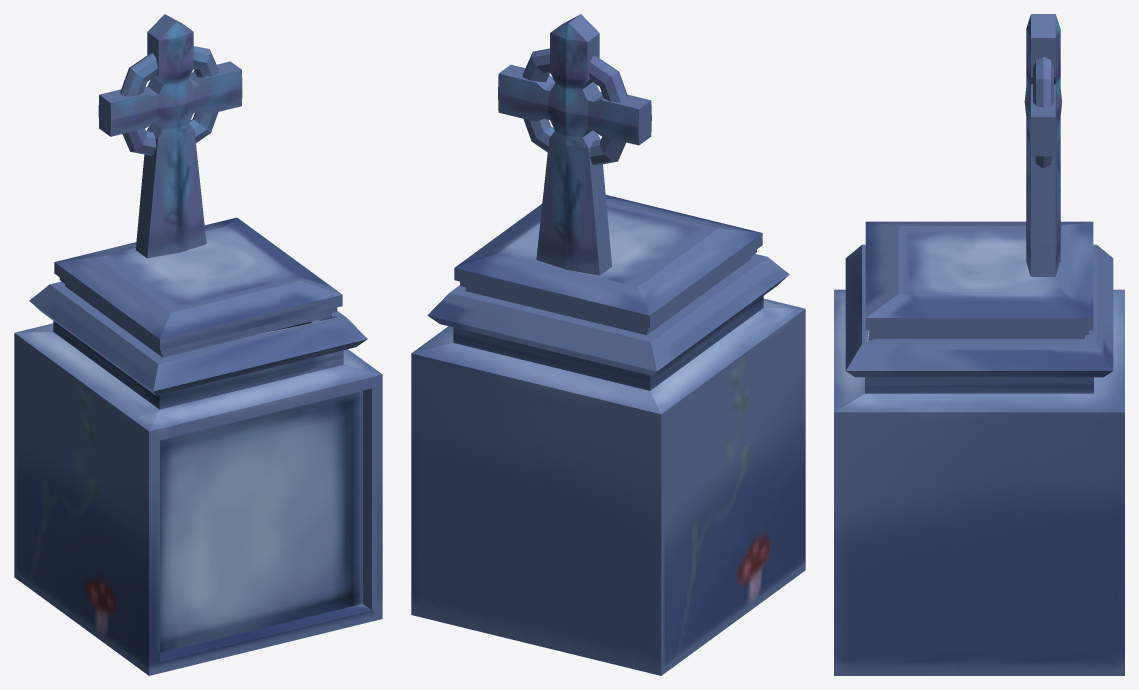
File: altar2.fbx
The picture shows the model from 3 angles, left to right: view 1: azimuth 30°, elevation 25°; view 2: azimuth 150°, elevation 25°; view 3: azimuth 270°, elevation 25°; orthographic projection. The views are drawn at different scales.
Visible parts, largest first — view 1: altar2; view 2: altar2; view 3: altar2.
Part boxes in pixels (x1,y1,x2,y2): altar2: (14, 14, 382, 675); altar2: (411, 14, 805, 675); altar2: (834, 14, 1124, 675).
Bounding box in the file's own units: 400 × 913 × 400.
